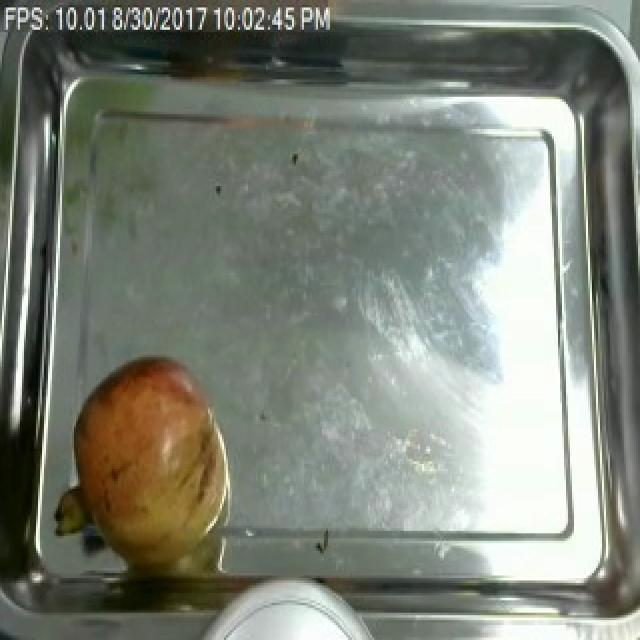fruit: (54, 342, 240, 586)
